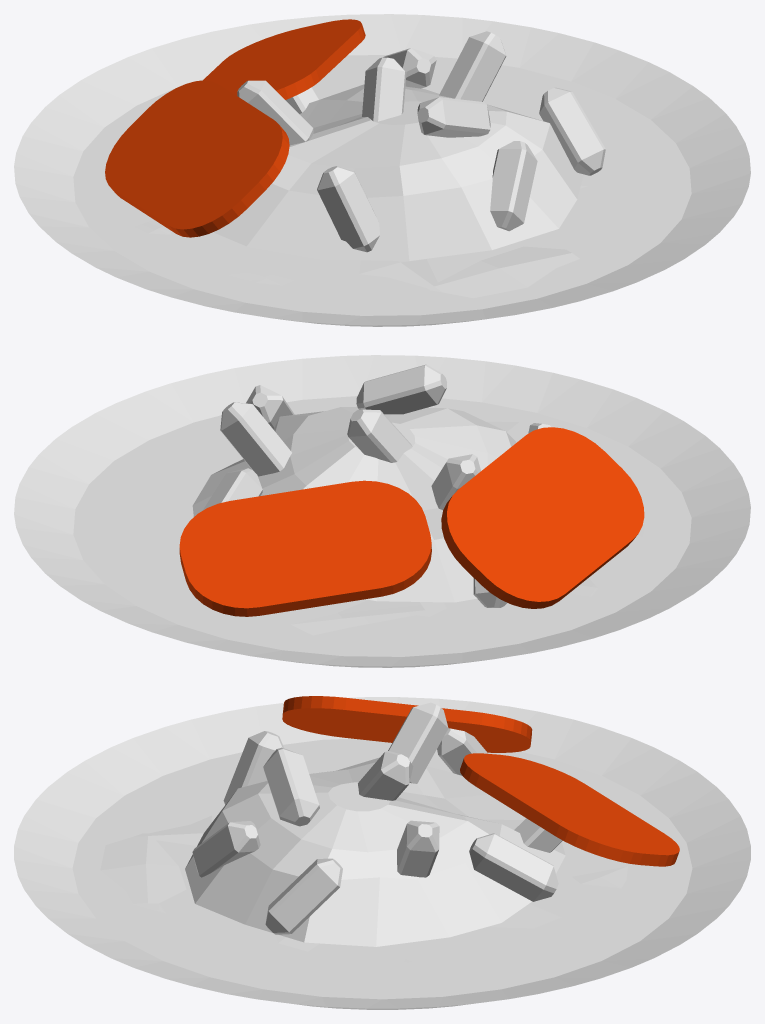
The model's file is SpamPlated.fbx.
3 renders of one model, top to bottom at view 1: azimuth 30°, elevation 25°; view 2: azimuth 150°, elevation 25°; view 3: azimuth 270°, elevation 25°, orthographic.
Visible parts, largest first — view 1: Plate, RiceMound, RiceBlocks, SpamCookedPortion.001, SpamCookedPortion, Plane, Plane.001; view 2: Plate, SpamCookedPortion, SpamCookedPortion.001, RiceMound, RiceBlocks, Plane; view 3: Plate, RiceMound, RiceBlocks, SpamCookedPortion, SpamCookedPortion.001, Plane.
Boxes of the visible parts, left/top/right/bottom form: Plate: left=14, top=14, right=750, bottom=326; RiceMound: left=213, top=84, right=583, bottom=260; RiceBlocks: left=237, top=31, right=605, bottom=252; SpamCookedPortion.001: left=105, top=80, right=289, bottom=237; SpamCookedPortion: left=203, top=19, right=365, bottom=99; Plane: left=359, top=242, right=582, bottom=297; Plane.001: left=134, top=174, right=589, bottom=285; Plate: left=14, top=355, right=750, bottom=667; SpamCookedPortion: left=179, top=480, right=431, bottom=616; SpamCookedPortion.001: left=441, top=427, right=644, bottom=608; RiceMound: left=192, top=406, right=516, bottom=602; RiceBlocks: left=202, top=364, right=559, bottom=607; Plane: left=260, top=421, right=529, bottom=635; Plate: left=14, top=697, right=750, bottom=1009; RiceMound: left=185, top=757, right=565, bottom=946; RiceBlocks: left=192, top=702, right=562, bottom=934; SpamCookedPortion: left=460, top=753, right=679, bottom=866; SpamCookedPortion.001: left=282, top=696, right=532, bottom=752; Plane: left=100, top=815, right=627, bottom=928.
Bounding box in the file's own units: 56.9 × 11.95 × 56.9.
